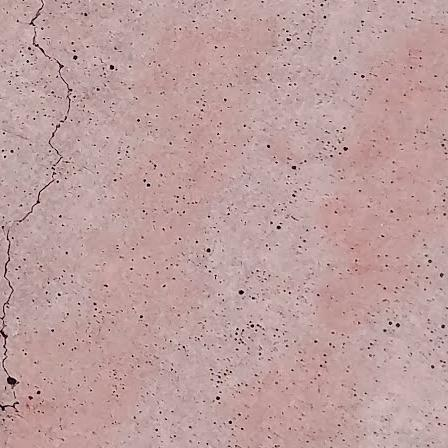crack: (0, 0, 85, 415)
